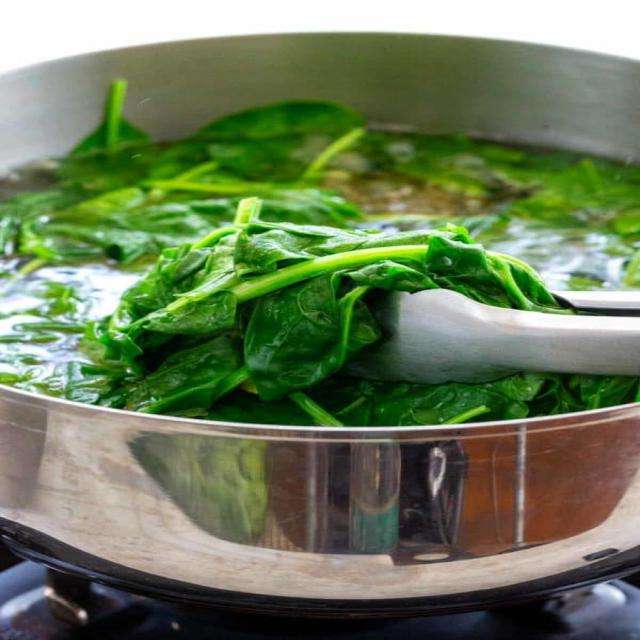spinach: (250, 283, 372, 392), (225, 220, 312, 274), (158, 292, 238, 336)
